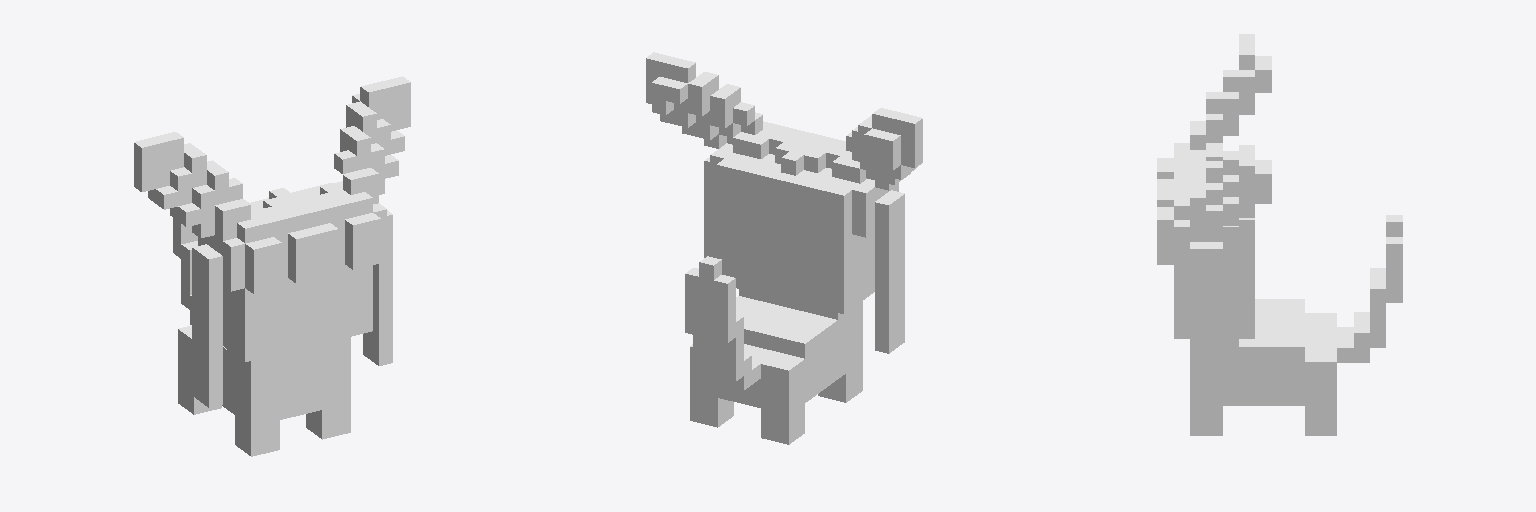
Rendered from Iceevee.obj.
The picture shows the model from 3 angles: view 1: azimuth 30°, elevation 25°; view 2: azimuth 150°, elevation 25°; view 3: azimuth 270°, elevation 25°; orthographic projection.
Parts seen in each view (by area): view 1: object 1; view 2: object 1; view 3: object 1.
Boxes of the visible parts, box(x1,y1,x2,y2) form: object 1: box(134, 76, 410, 456); object 1: box(646, 52, 922, 444); object 1: box(1157, 34, 1402, 435).
Bounding box in the file's own units: 1.9 × 2.1 × 1.5.